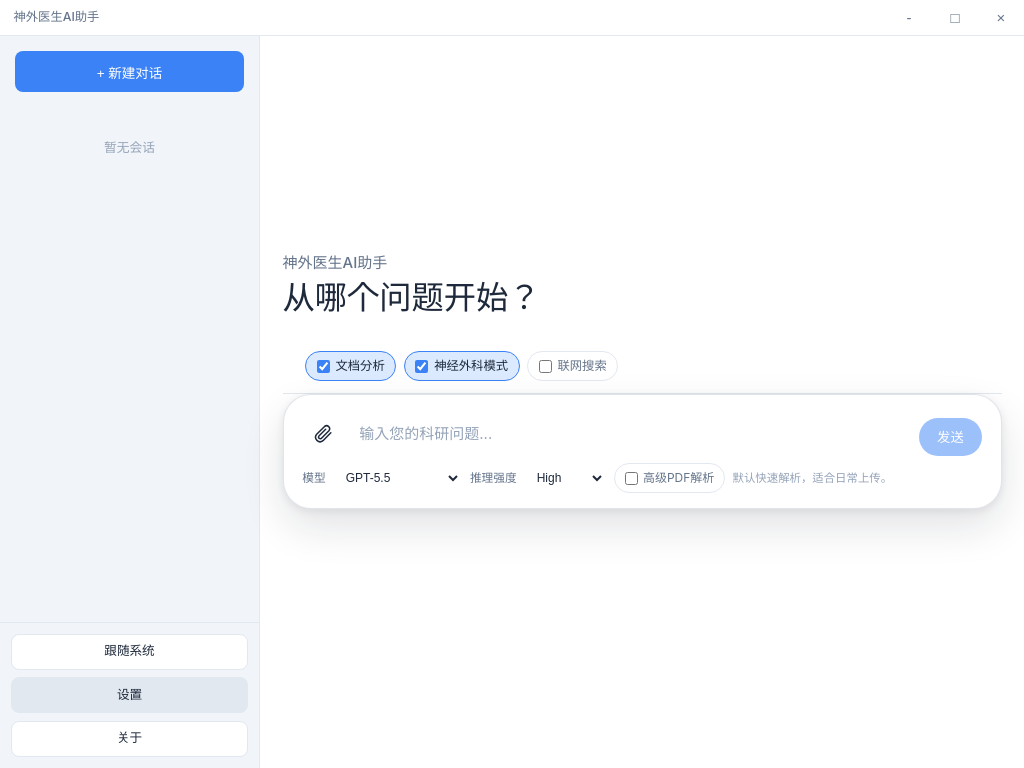
App settings controls › opens an about page below settings with beta guidance, risks, references and credits
Click the button "关于" at (130, 739), box [11,721,248,757]
(page scrolled)
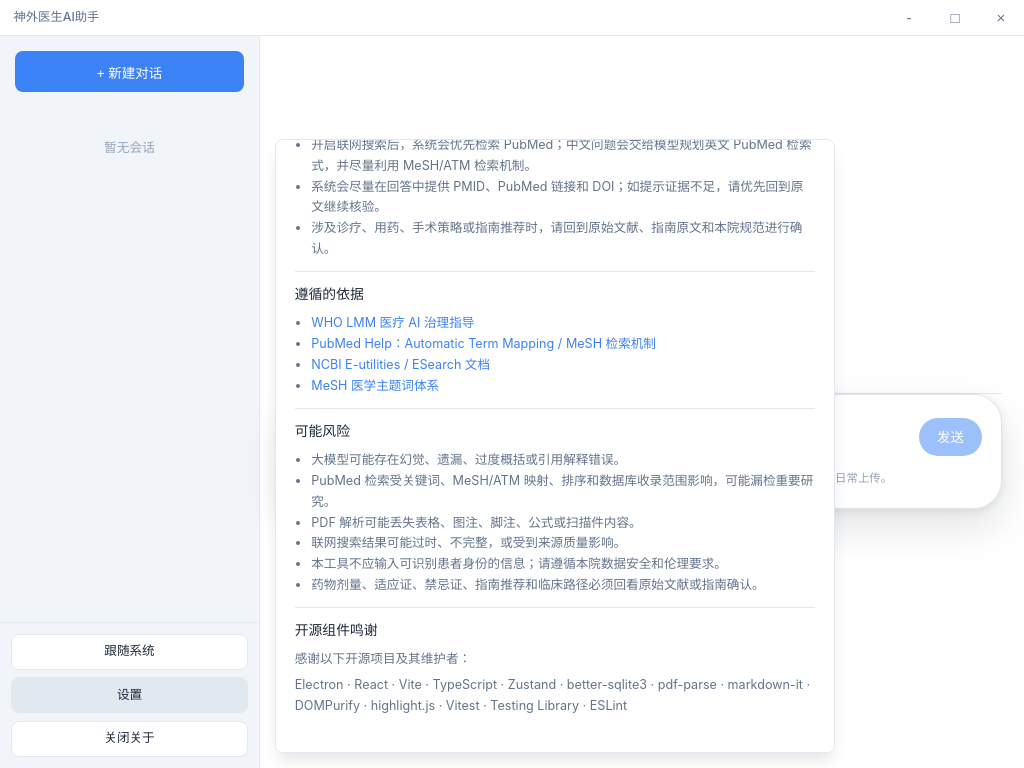
Check: the list item "模型规划英文 PubMed 检索式" is shown, box [311,139,812,173]
Check: the list item "系统会尽量在回答中提供 PMID、PubMed 链接和 DOI；如提示证据不足，请优先回到原文继续核验。" is shown, box [311,177,815,218]
Check: the list item "大模型可能存在幻觉、遗漏、过度概括或引用解释错误。" is shown, box [311,452,626,467]
